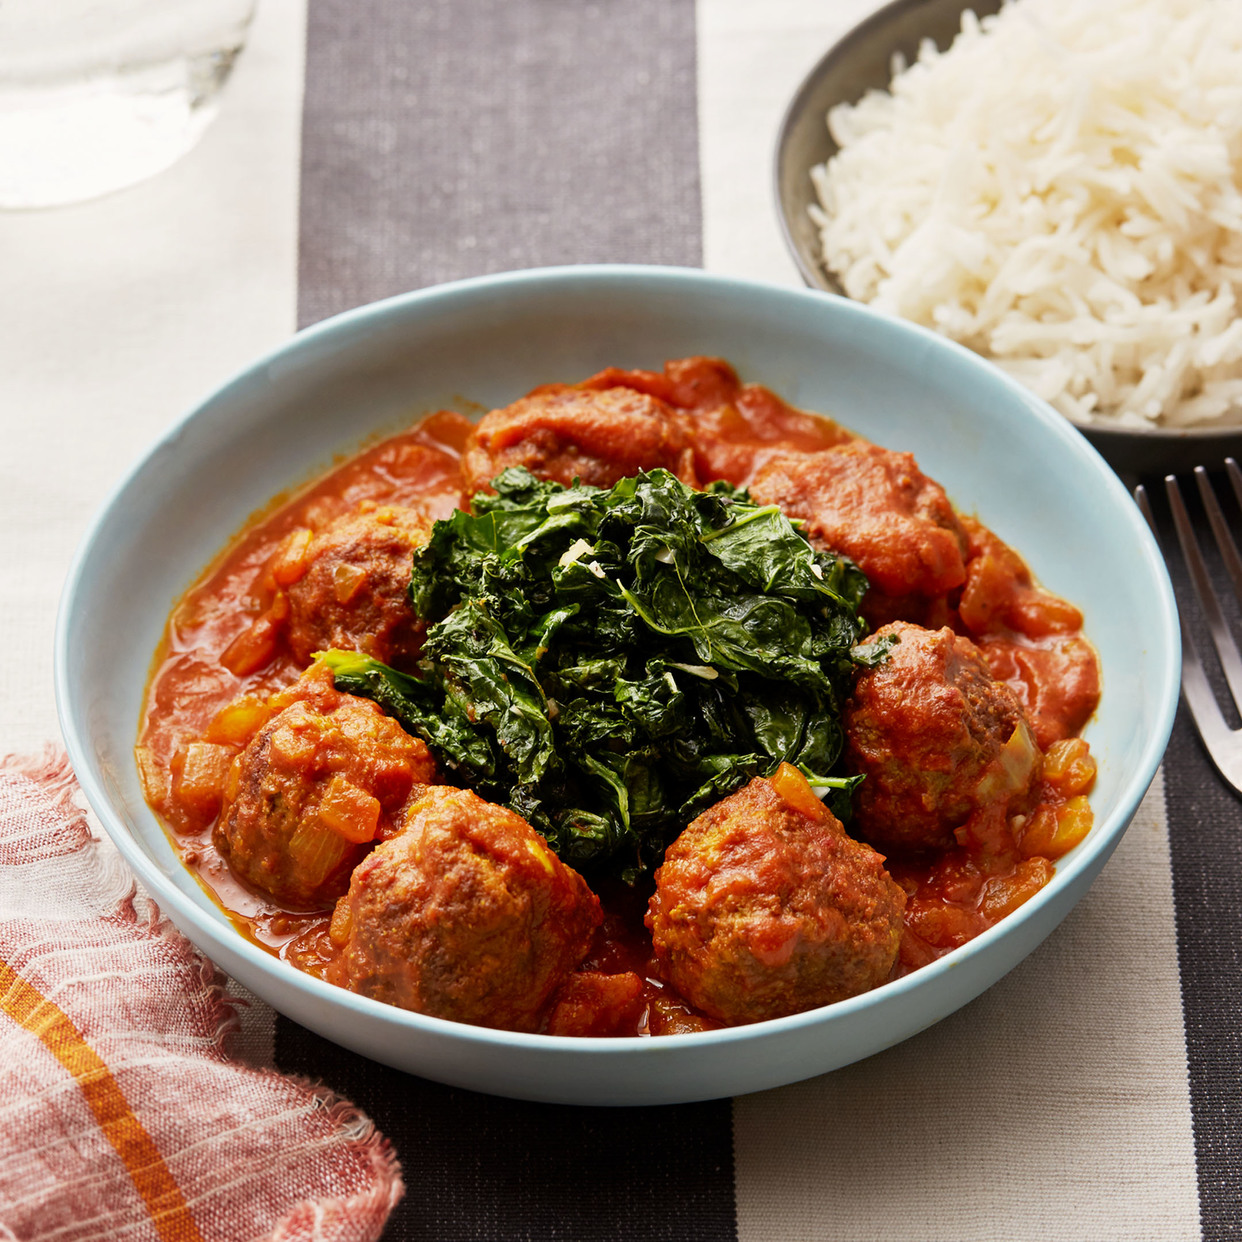meatballs: (213, 411, 1086, 1022)
plain rice: (790, 7, 1242, 419)
